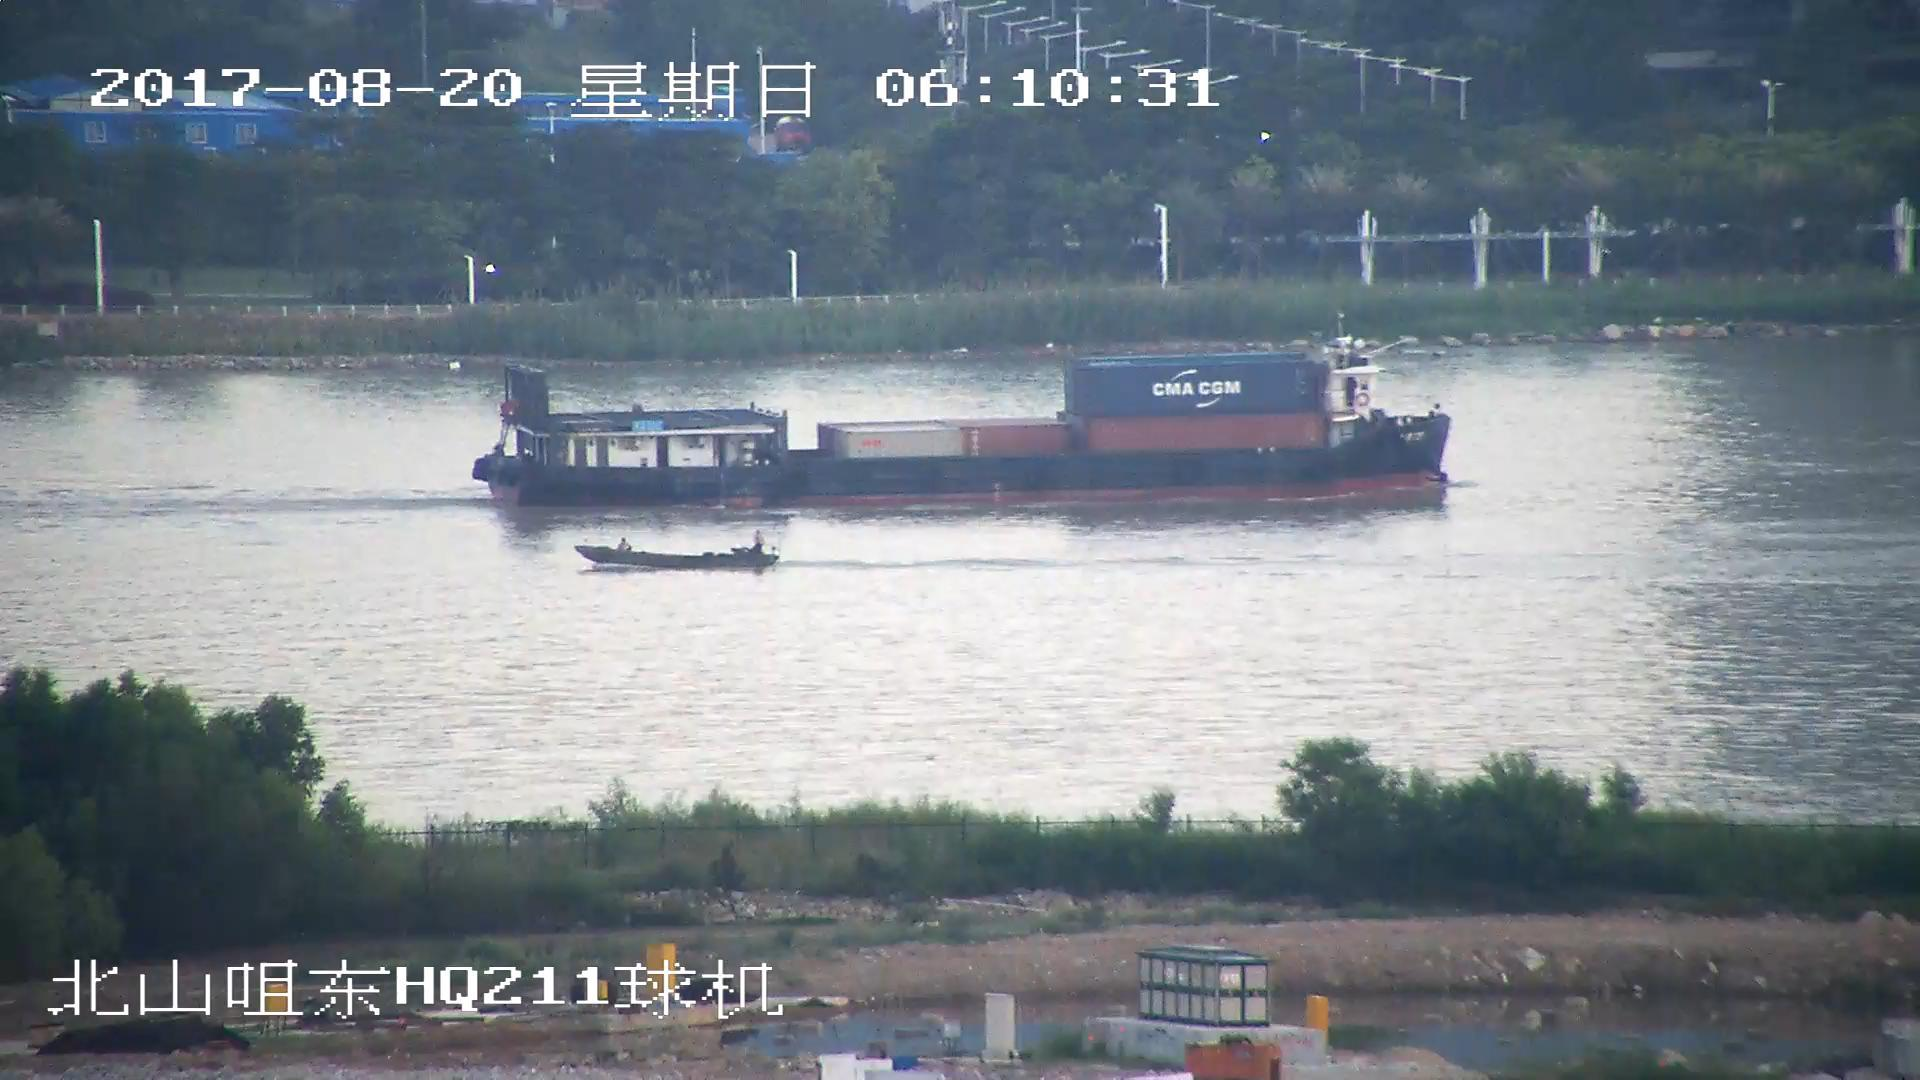Ship: (472, 328, 1458, 512), (575, 531, 783, 576)
